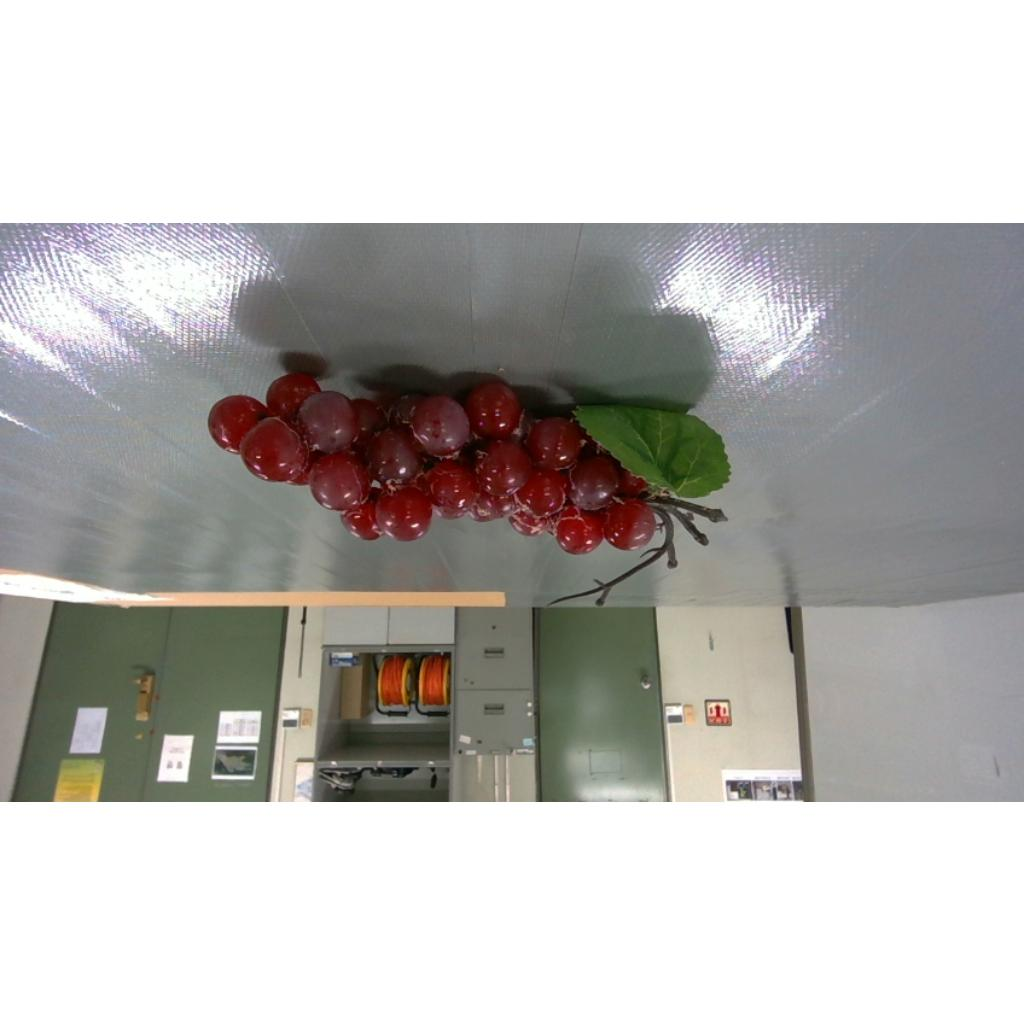grape: (208, 372, 730, 603)
